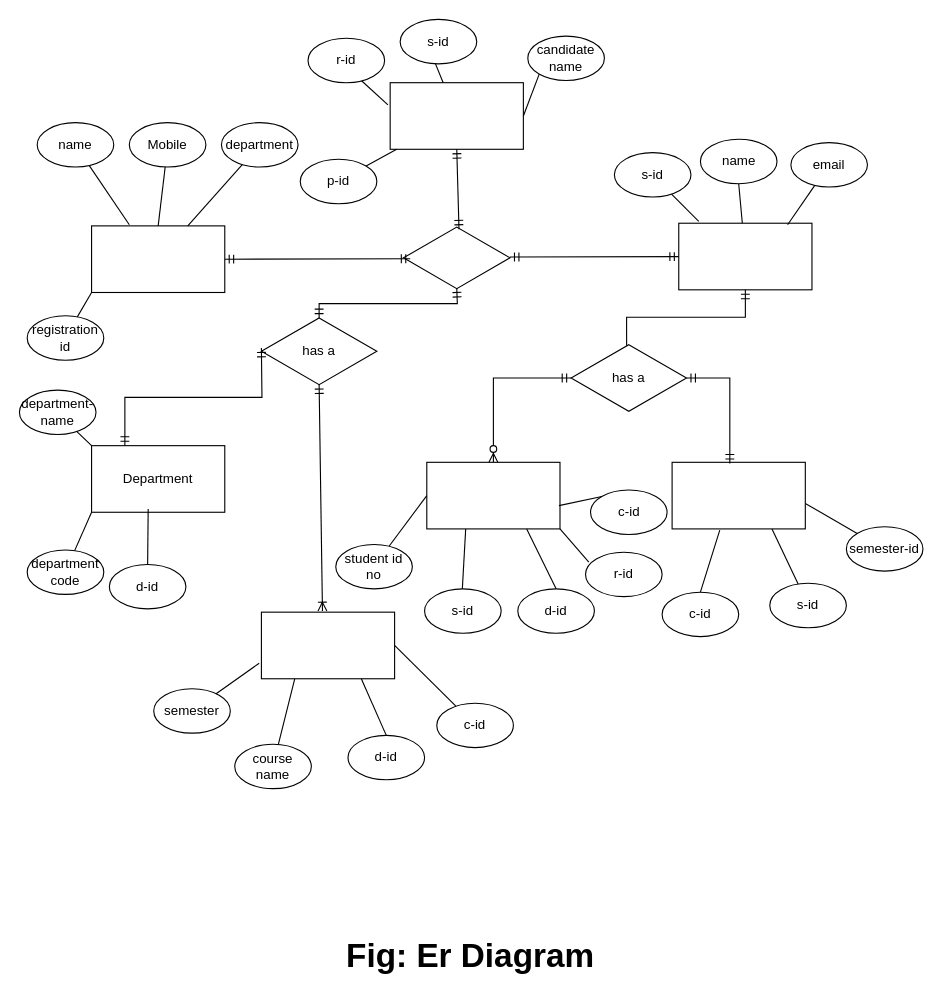
The diagram is 942 pixels wide and 995 high, and some of its shapes have lost their labels. Each missing label, with the box of its shape:
Course: (260, 611, 395, 679)
is a: (402, 225, 510, 290)
Payment: (389, 82, 523, 149)
Registration: (90, 225, 225, 292)
Result: (426, 461, 560, 529)
Semester Registration: (671, 461, 805, 529)
Student: (678, 222, 812, 290)
